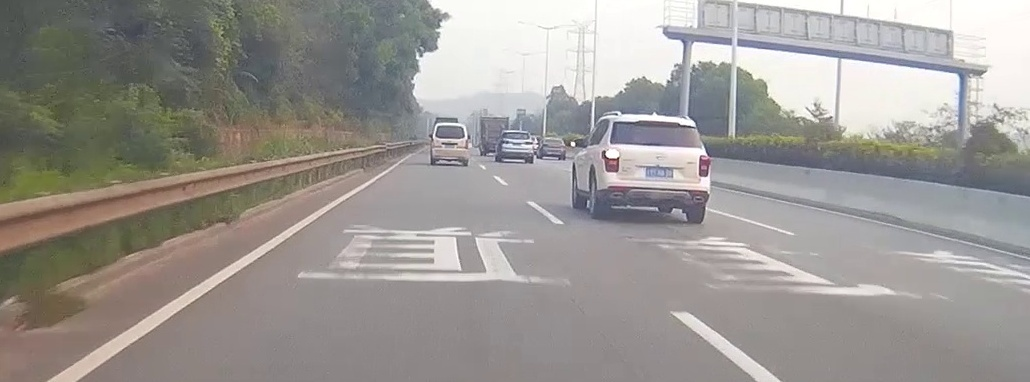L_light: (602, 149, 620, 172), (501, 140, 509, 144), (432, 138, 435, 147)
R_light: (699, 155, 710, 177), (525, 141, 533, 145), (465, 139, 468, 149)
T_light: (638, 120, 680, 125), (512, 131, 519, 134), (446, 125, 453, 127)
day-left: (600, 114, 711, 223)
day-no: (431, 123, 469, 166), (500, 130, 533, 163)
